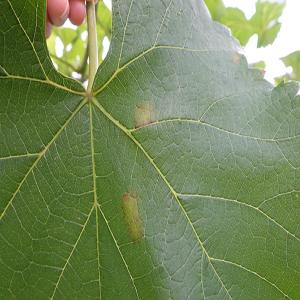Folha: (1, 0, 299, 299)
Fungo: (121, 187, 145, 243), (132, 99, 157, 128)
